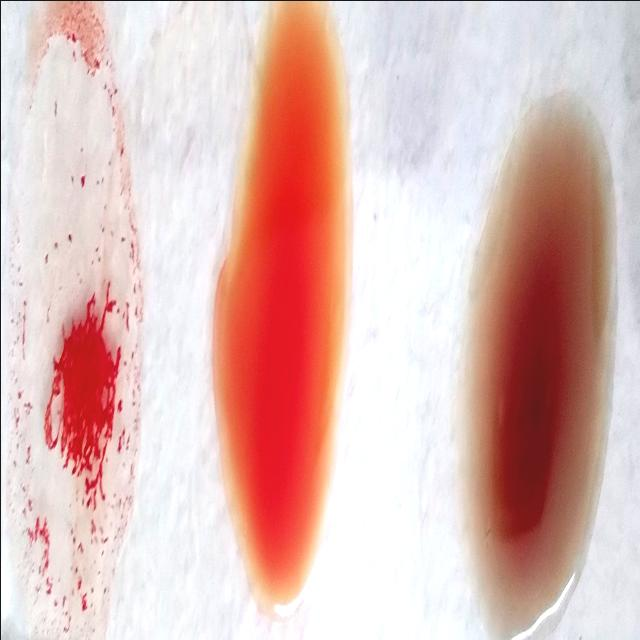D: (8, 16, 138, 638)
